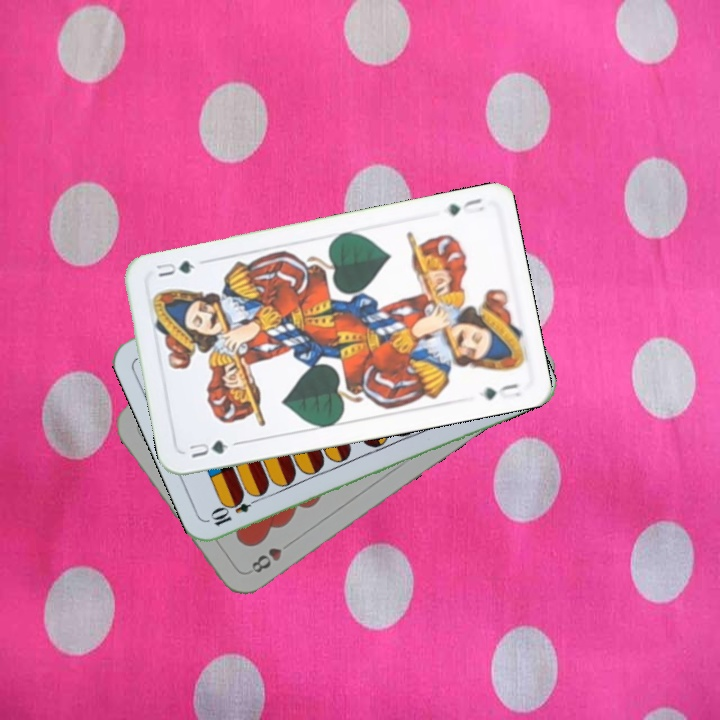E10: (208, 491, 264, 529)
GU: (185, 435, 241, 461), (443, 194, 487, 219)
H8: (247, 536, 296, 576)
